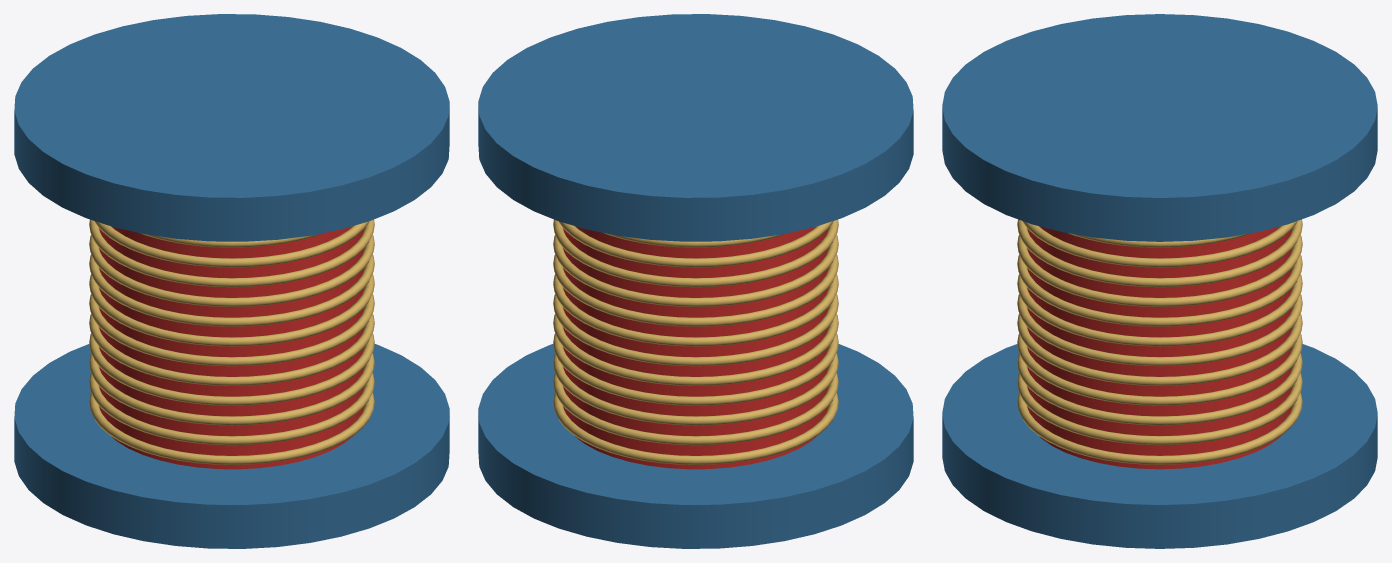
The model's file is fencing-club-and-tournament-piste-wire-spool-f0e7bfea__31239.glb.
3 views of the same model, side by side, from view 1: azimuth 30°, elevation 25°; view 2: azimuth 150°, elevation 25°; view 3: azimuth 270°, elevation 25° (orthographic).
Parts seen in each view (by area): view 1: wire-spool; view 2: wire-spool; view 3: wire-spool.
Boxes of the visible parts, x1,y1,x2,y2 form: wire-spool: (14, 14, 449, 548); wire-spool: (478, 14, 913, 548); wire-spool: (942, 14, 1377, 548).
Bounding box in the file's own units: 0.18 × 0.16 × 0.18.
